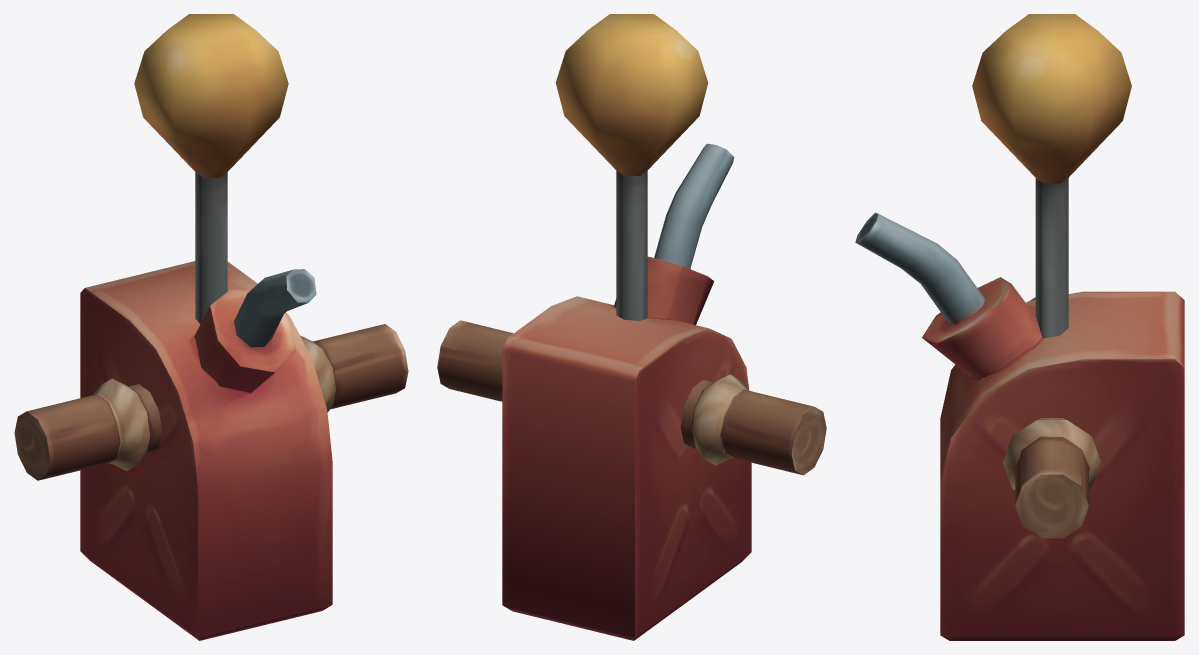
File: Tanks_Addons.fbx
3 views of the same model, side by side, from view 1: azimuth 30°, elevation 25°; view 2: azimuth 150°, elevation 25°; view 3: azimuth 270°, elevation 25° (orthographic). The views are drawn at different scales.
Parts seen in each view (by area): view 1: Jerrycan, Antenna, Log; view 2: Jerrycan, Antenna, Log; view 3: Jerrycan, Antenna, Log.
Part boxes in pixels (x1,y1,x2,y2): Jerrycan: (80, 261, 332, 640); Antenna: (134, 14, 288, 323); Log: (14, 324, 408, 480); Jerrycan: (502, 143, 751, 640); Antenna: (555, 14, 708, 320); Log: (437, 320, 826, 475); Jerrycan: (855, 212, 1184, 640); Antenna: (972, 14, 1131, 338); Log: (1003, 297, 1101, 538).
Bounding box in the file's own units: 0.3929 × 0.586 × 0.3021.
